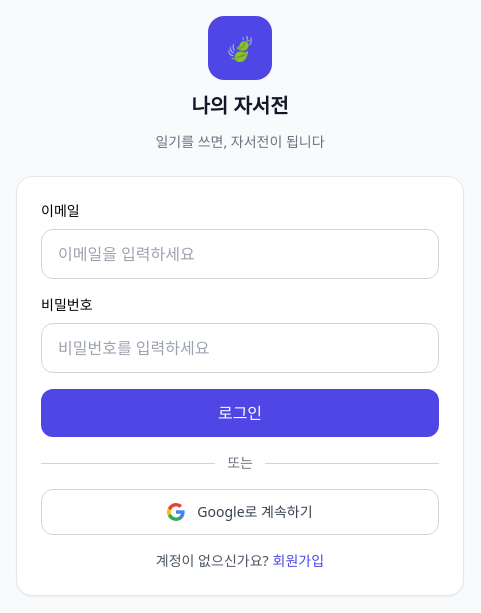
Scenario: LoginPage (DLD-400 리디자인) › 기존 로그인 로직 유지 › should disable submit button while loading
Type "test@example.com" into the field with test id "email-input" at x=240, y=254, box top-left (41, 229), bottom-right (439, 279)
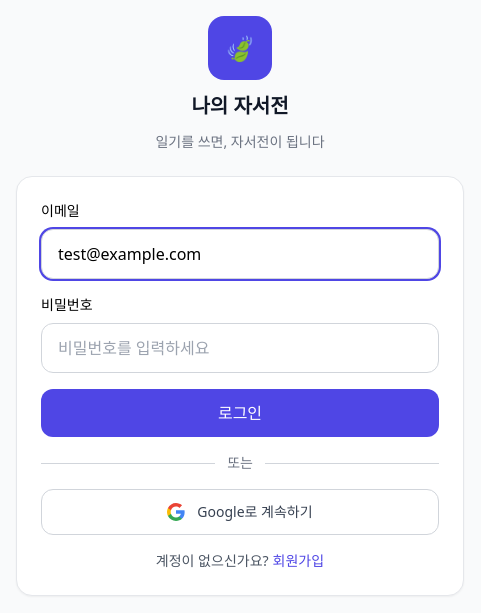
Type "password" into the password field with test id "password-input" at x=240, y=348, box top-left (41, 323), bottom-right (439, 373)
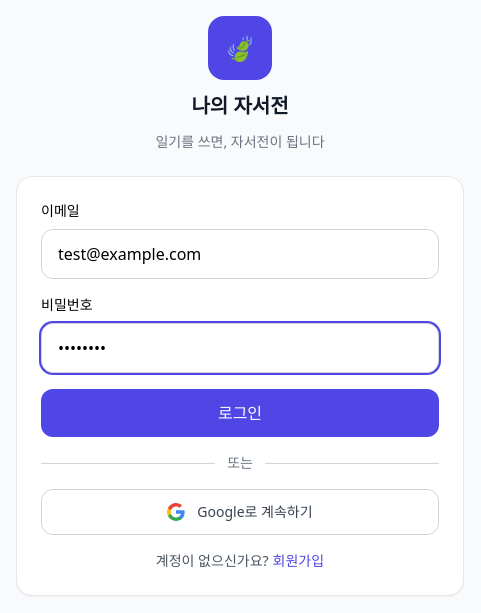
Click the button with test id "submit-button" at x=240, y=413, box top-left (41, 389), bottom-right (439, 437)
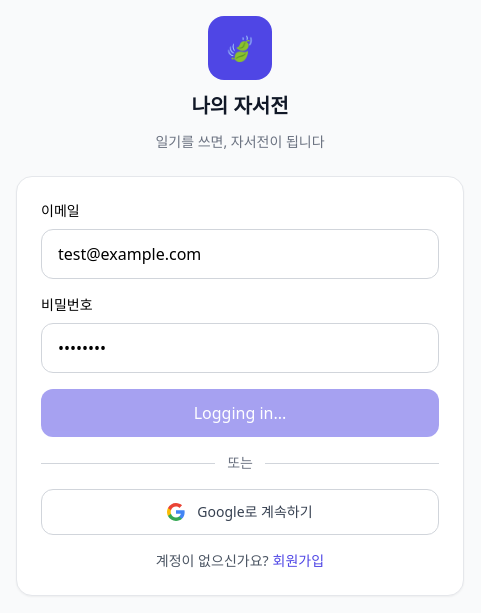
expect the button with test id "submit-button" is disabled: met, box top-left (41, 389), bottom-right (439, 437)
